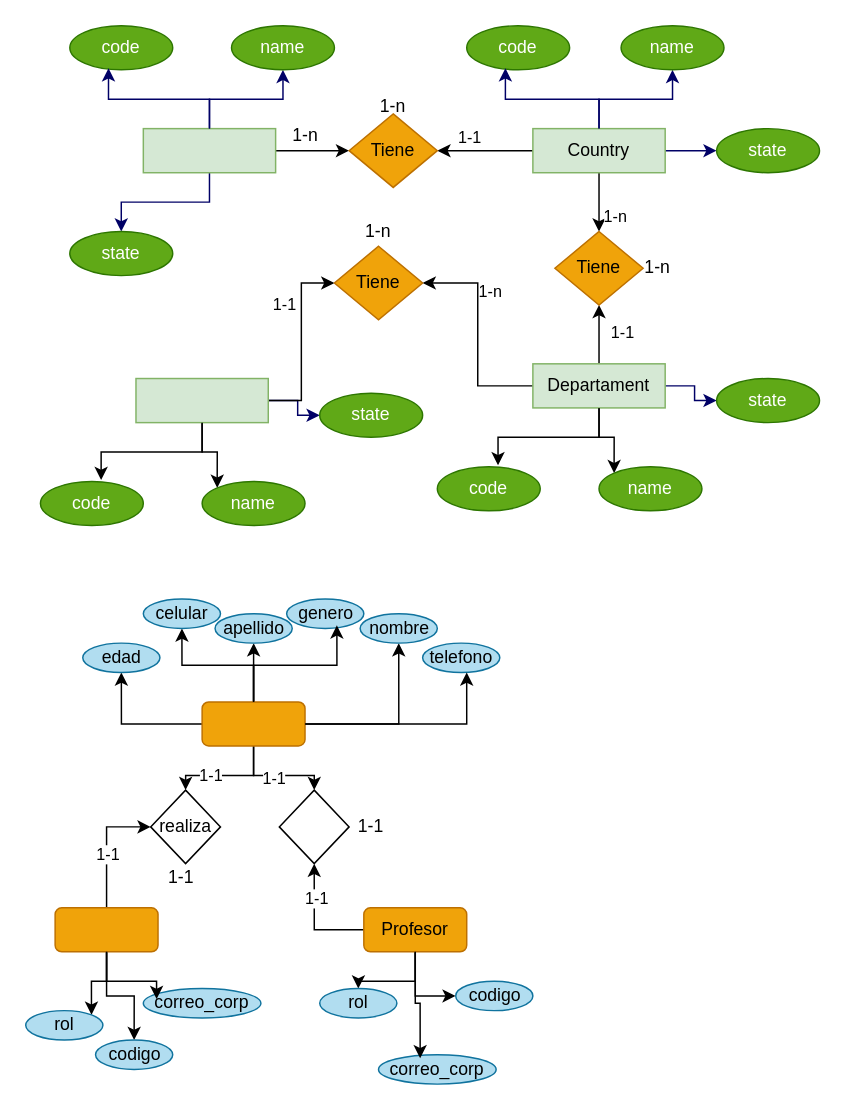
The diagram is 845 pixels wide and 1110 high, and some of its shapes have lost their labels. The box of each missing label's shape, as (x1, y1, x2, y2) in pixels:
Continent: (142, 127, 276, 173)
Estate: (135, 377, 268, 423)
Estudiante: (54, 906, 158, 952)
Persona: (201, 700, 305, 746)
trabaja: (278, 789, 349, 864)
